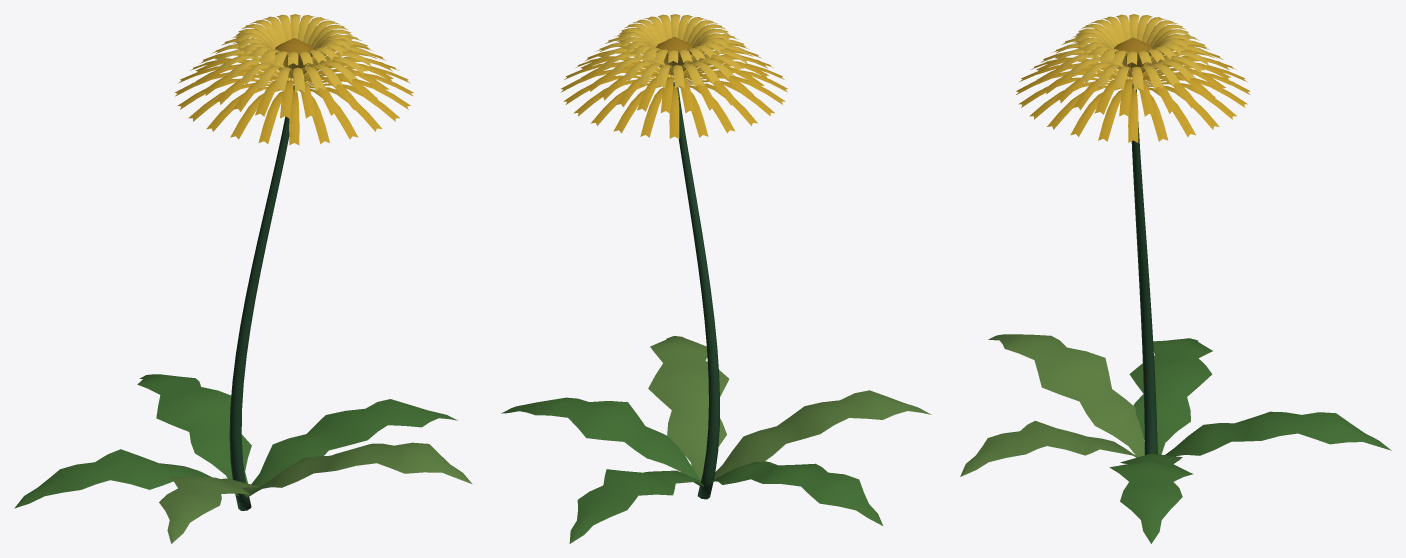
Rendered from meadow_dandelion.hi.glb.
The picture shows the model from 3 angles, left to right: view 1: azimuth 30°, elevation 25°; view 2: azimuth 150°, elevation 25°; view 3: azimuth 270°, elevation 25°; orthographic projection. The views are drawn at different scales.
Parts seen in each view (by area): view 1: body; view 2: body; view 3: body.
Boxes of the visible parts, <box> form: body: <box>14,14,472,543</box>; body: <box>501,14,931,543</box>; body: <box>960,14,1391,543</box>.
Bounding box in the file's own units: 0.3177 × 0.3383 × 0.2862.
